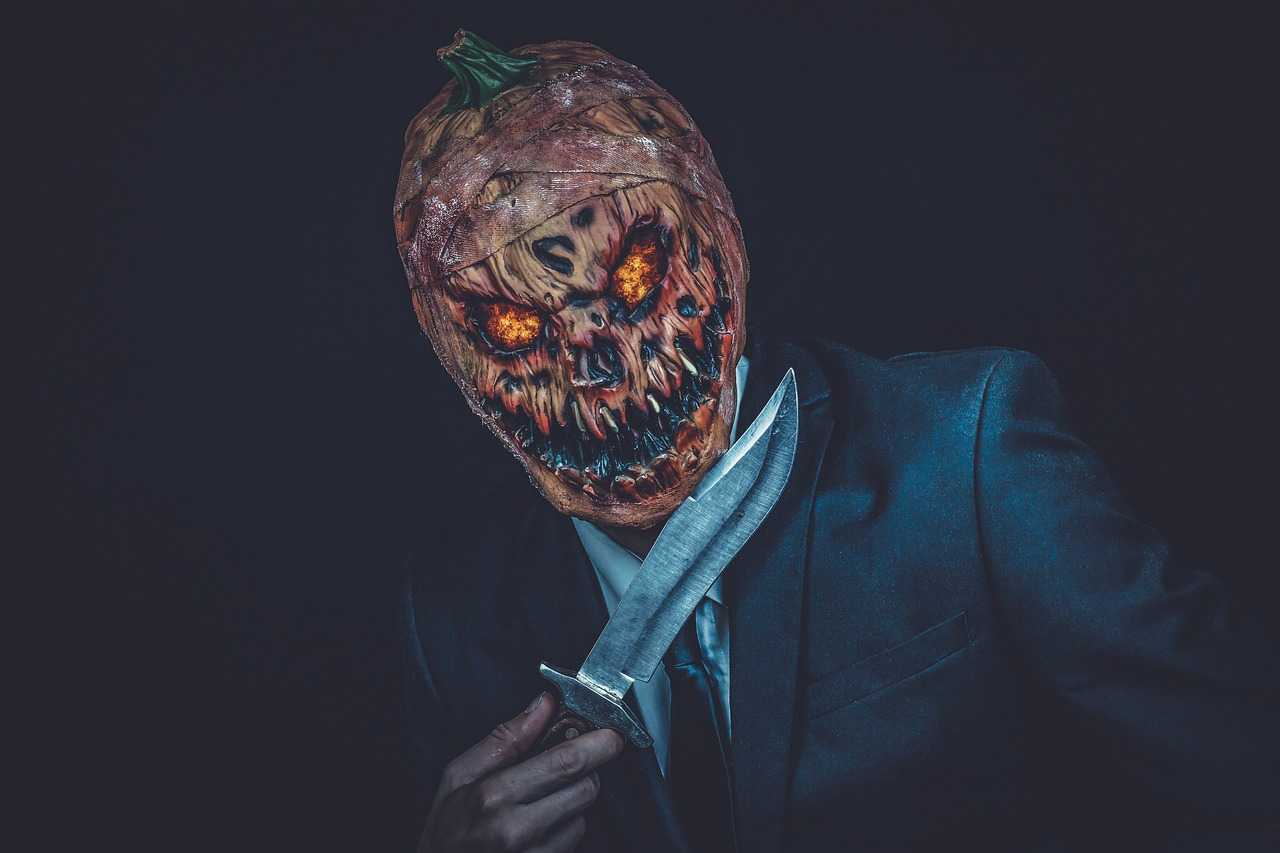knife: (498, 356, 824, 791)
